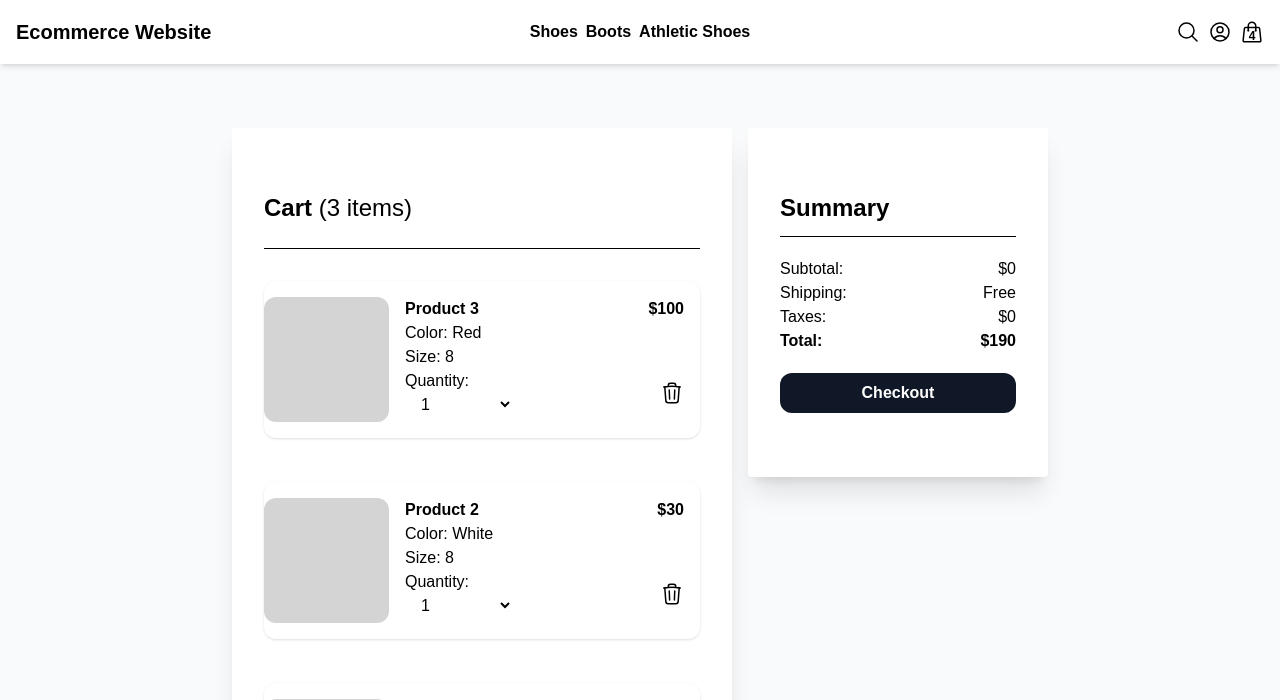
Test: Removing an item from the cart › should remove the specified multiple items from the cart
Check: the text with test id "shoppingBagIcon" reads "4", box [1249, 28, 1256, 44]
Click the icon with test id "cartProductRemoveIcon" below "30" at (672, 594), box [660, 582, 684, 606]
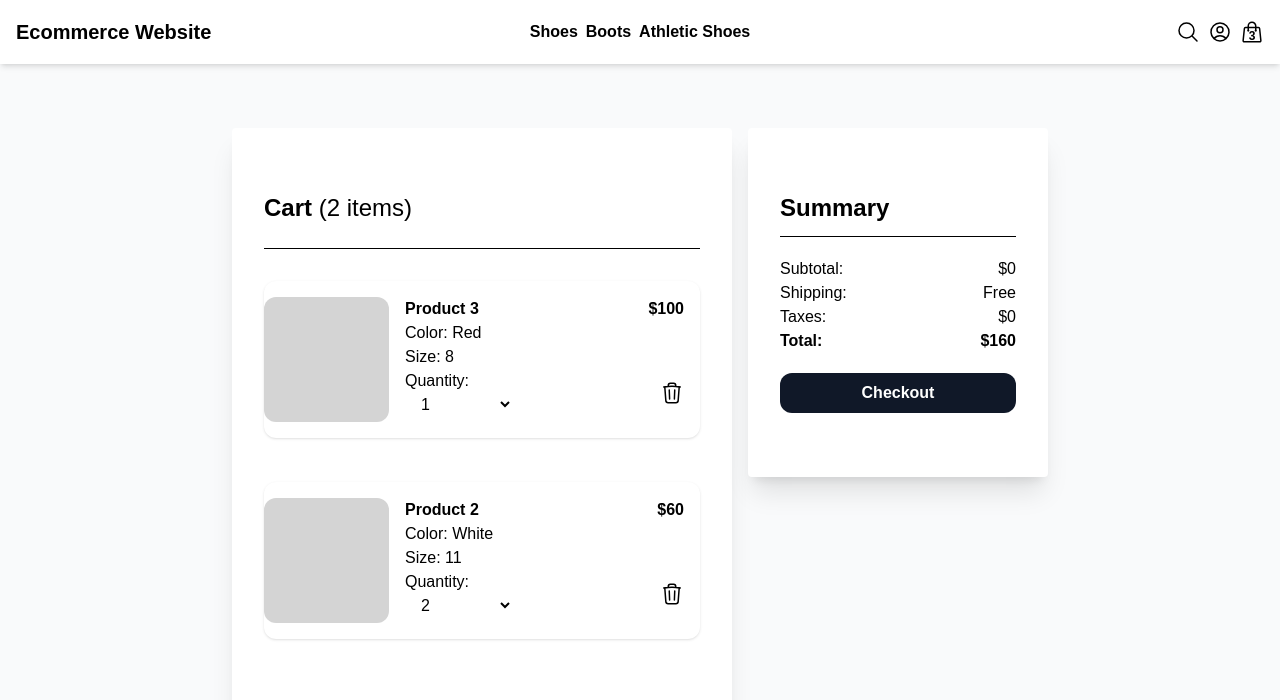
Check: the number of elements with test id "cartProduct" is 2, box [264, 281, 700, 438]; [264, 482, 700, 639]
Click the icon with test id "cartProductRemoveIcon" below "Red" at (672, 393), box [660, 381, 684, 405]
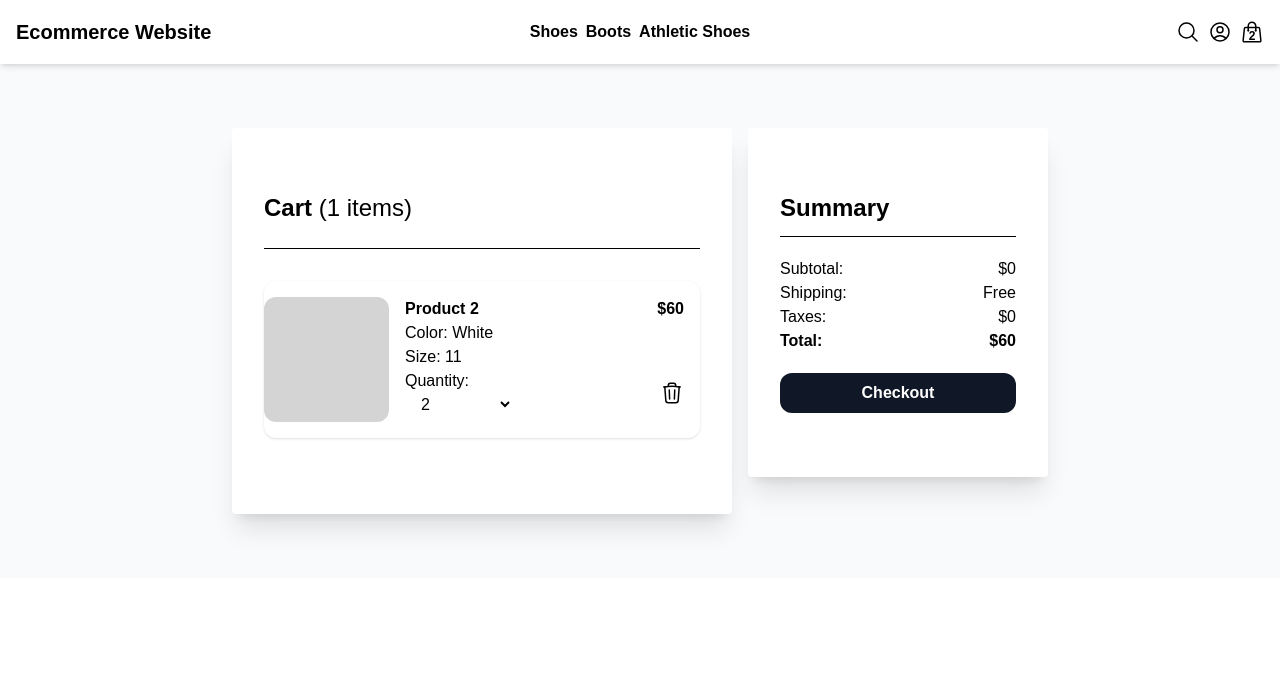
Check: the number of elements with test id "cartProduct" is 1, box [264, 281, 700, 438]
